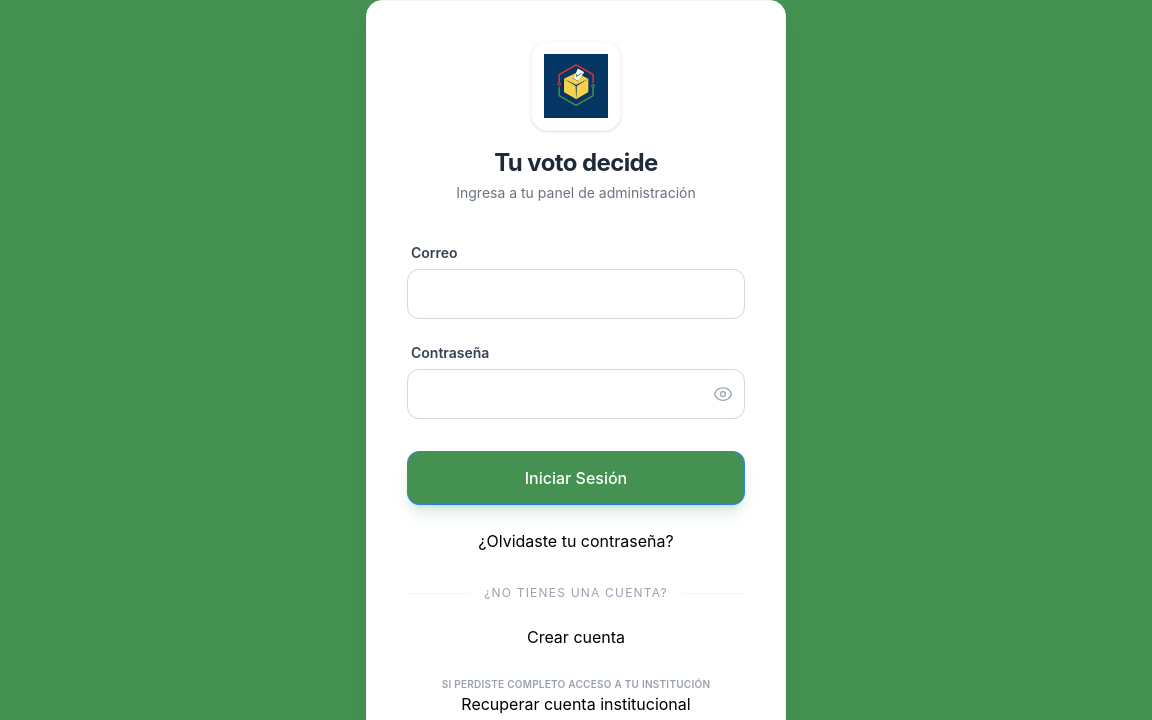
Test: MX-02 | Gestión de instituciones, administradores y wallets | acceso suspendido › [MX-02][D-DIS-008][INTEGRACION] bloquea el acceso institucional de una relación suspendida desde el flujo real de login
Type "suspended@tenant.test" into the field with test id "login-email". click: (576, 294)
box: [407,269,745,319]
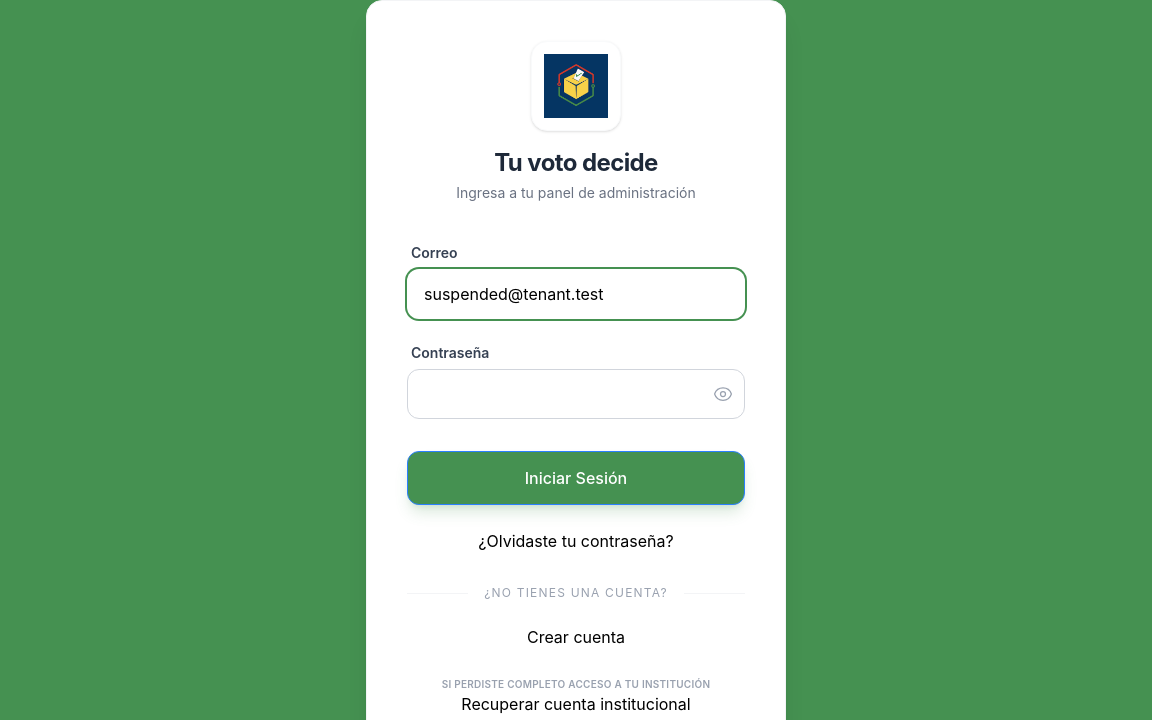
Type "12345678" into the password field with test id "login-password". click: (576, 394)
box: [407,369,745,419]
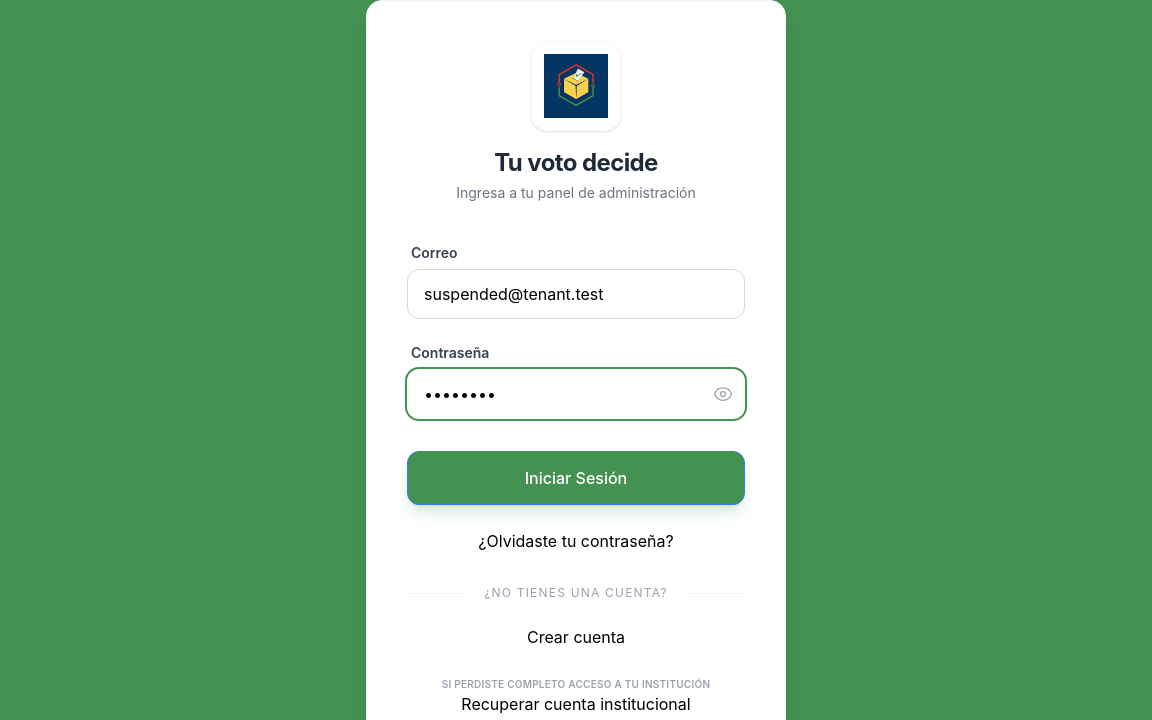
Click the button with test id "login-submit". click: (576, 478)
box: [407,451,745,505]
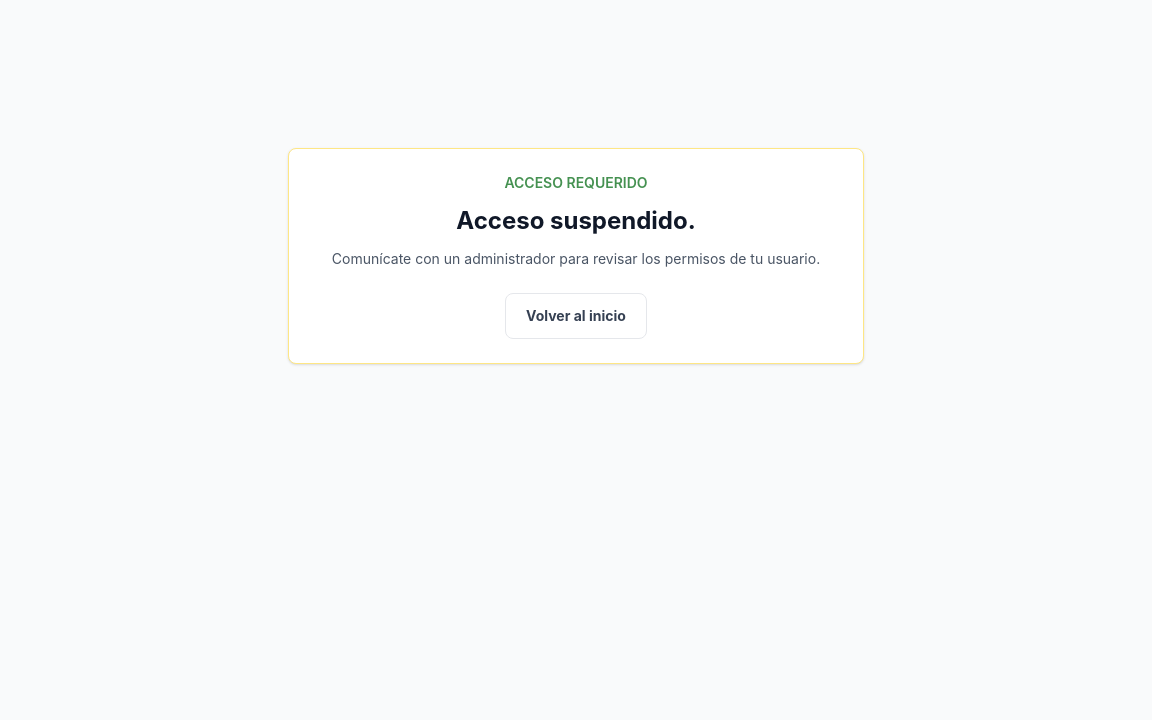
Result: the heading "Acceso suspendido." is shown at [456,206,696,235]
Result: the text "Acceso requerido" is shown at [504,174,648,191]
Result: the field with test id "login-email" is gone
